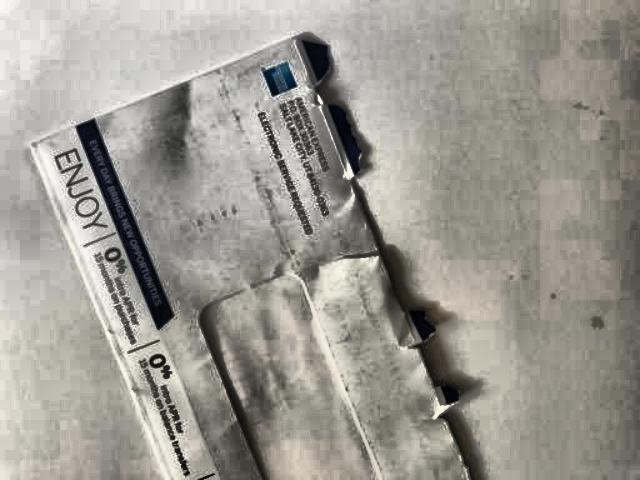Paper: (25, 28, 511, 480)
